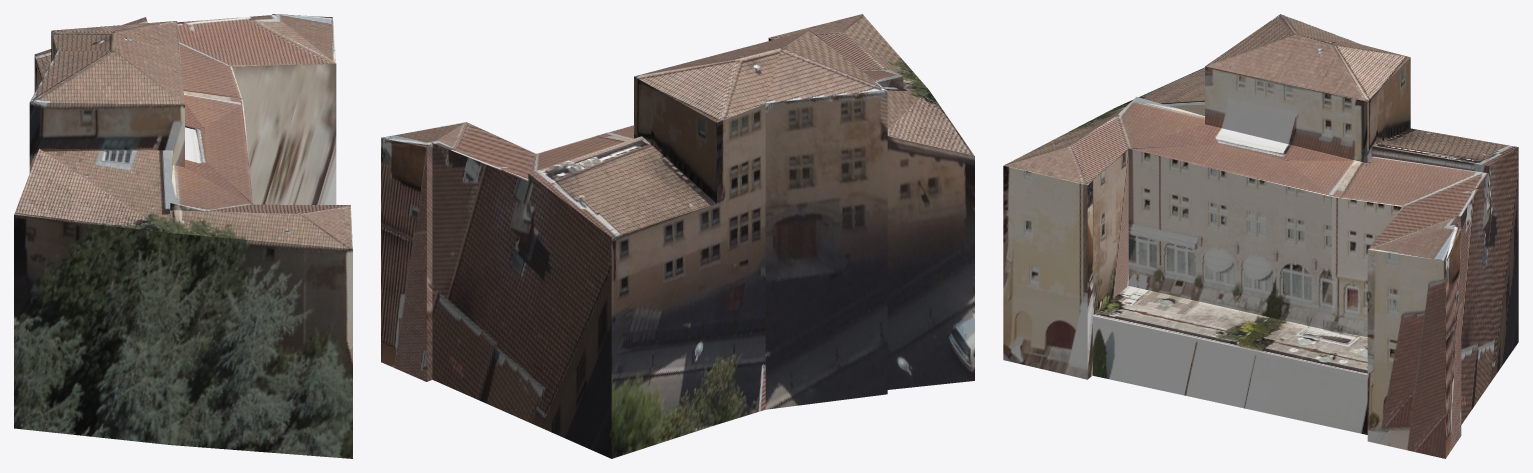
3 renders of one model, left to right at view 1: azimuth 30°, elevation 25°; view 2: azimuth 150°, elevation 25°; view 3: azimuth 270°, elevation 25°, orthographic. The views are drawn at different scales.
Parts seen in each view (by area): view 1: Z_UP; view 2: Z_UP; view 3: Z_UP.
Boxes of the visible parts, x1=… form: Z_UP: x1=14, y1=14, x2=352, y2=458; Z_UP: x1=381, y1=14, x2=974, y2=458; Z_UP: x1=1003, y1=14, x2=1518, y2=458.
Bounding box in the file's own units: 34.01 × 22.98 × 37.12.
Materials: 2 (1 with a texture image).
